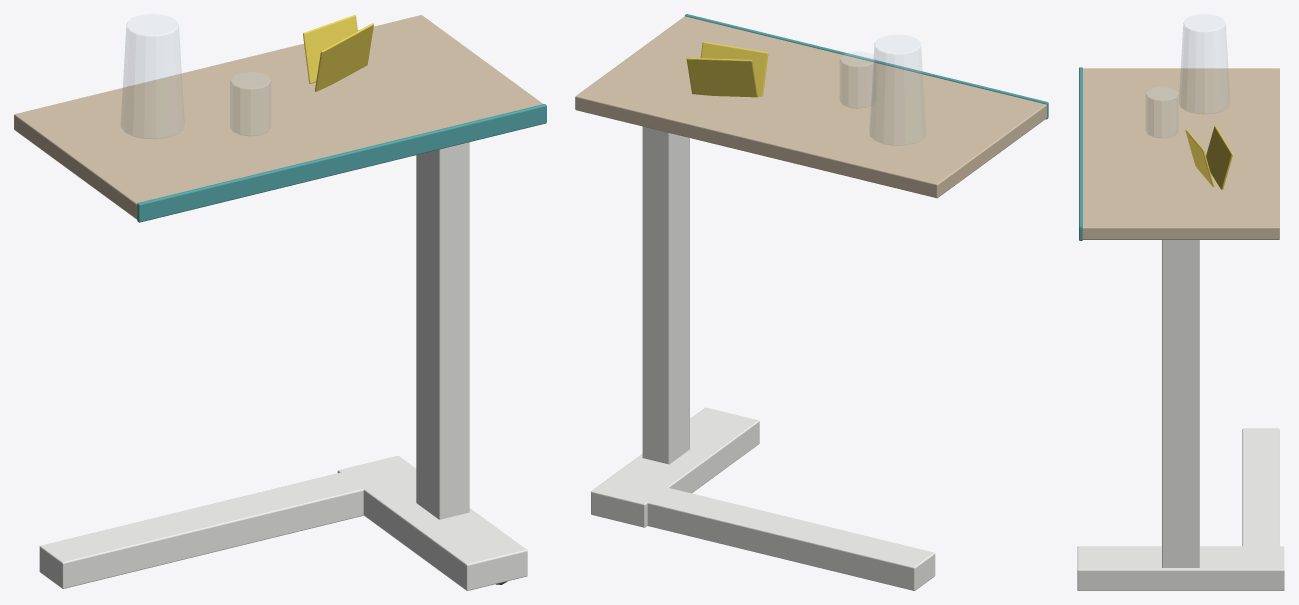
Rendered from over_bed_table.glb.
3 views of the same model, side by side, from view 1: azimuth 30°, elevation 25°; view 2: azimuth 150°, elevation 25°; view 3: azimuth 270°, elevation 25° (orthographic). The views are drawn at different scales.
Parts seen in each view (by area): view 1: over_bed_table; view 2: over_bed_table; view 3: over_bed_table.
Part boxes in pixels (x1,y1,x2,y2): over_bed_table: (14,14,546,590); over_bed_table: (575,14,1048,590); over_bed_table: (1077,14,1284,590).
Size of the model in its own units: 0.8 by 1.07 by 0.44.
